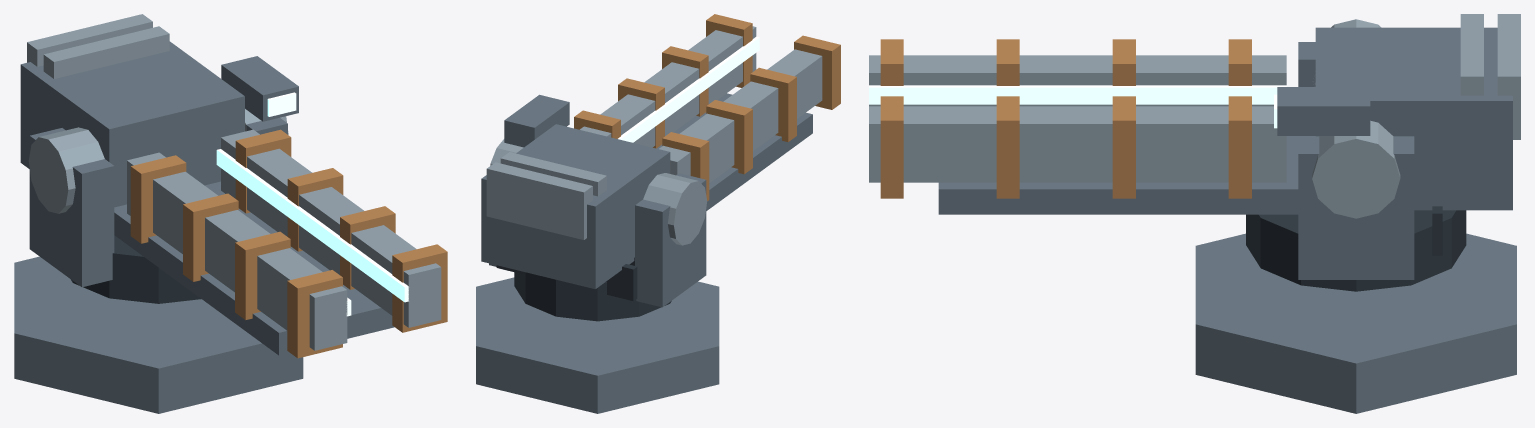
File: railgun_t1.glb
The picture shows the model from 3 angles, left to right: view 1: azimuth 30°, elevation 25°; view 2: azimuth 150°, elevation 25°; view 3: azimuth 270°, elevation 25°; orthographic projection. The views are drawn at different scales.
Visible parts, largest first — view 1: Ground plinth, Mass driver rail (×2), Breech, Rail winding (×8), Cradle (×2), Lower spine, Capacitor (×2), Elevation motor, Induction track, Bearing, Targeting optic, Optic window; view 2: Ground plinth, Breech, Mass driver rail (×2), Rail winding (×8), Capacitor (×2), Cradle, Bearing, Elevation motor (×2), Lower spine, Induction track, Targeting optic, Cooling blade; view 3: Ground plinth, Mass driver rail (×2), Breech, Rail winding (×8), Cradle (×2), Lower spine, Induction track, Bearing, Elevation motor, Targeting optic, Capacitor (×2).
Part boxes in pixels (box(x1,y1,x2,y2)): Ground plinth: box(14, 256, 303, 413); Mass driver rail (×2): box(127, 129, 441, 350); Breech: box(20, 41, 244, 207); Rail winding (×8): box(130, 129, 447, 358); Cradle (×2): box(29, 117, 287, 287); Lower spine: box(114, 181, 394, 355); Capacitor (×2): box(27, 14, 169, 78); Elevation motor: box(28, 127, 104, 213); Induction track: box(216, 149, 408, 302); Bearing: box(71, 235, 200, 303); Targeting optic: box(221, 56, 298, 121); Optic window: box(267, 92, 296, 116); Ground plinth: box(476, 277, 719, 413); Breech: box(481, 124, 670, 289); Mass driver rail (×2): box(580, 26, 822, 182); Rail winding (×8): box(574, 14, 840, 200); Capacitor (×2): box(486, 152, 606, 239); Cradle: box(635, 173, 706, 307); Bearing: box(514, 271, 671, 321); Elevation motor (×2): box(490, 139, 707, 245); Lower spine: box(657, 93, 812, 210); Induction track: box(618, 36, 759, 142); Targeting optic: box(504, 94, 569, 147); Cooling blade: box(496, 264, 637, 301); Ground plinth: box(1195, 233, 1516, 413); Mass driver rail (×2): box(869, 55, 1286, 182); Breech: box(1315, 27, 1512, 210); Rail winding (×8): box(880, 39, 1251, 198); Cradle (×2): box(1298, 42, 1414, 279); Lower spine: box(938, 136, 1315, 214); Induction track: box(869, 85, 1286, 104); Bearing: box(1246, 210, 1466, 291); Elevation motor: box(1312, 120, 1400, 218); Targeting optic: box(1277, 87, 1370, 135); Capacitor (×2): box(1460, 14, 1520, 139).
Size of the model in its own units: 1.6 by 1.38 by 2.81.
